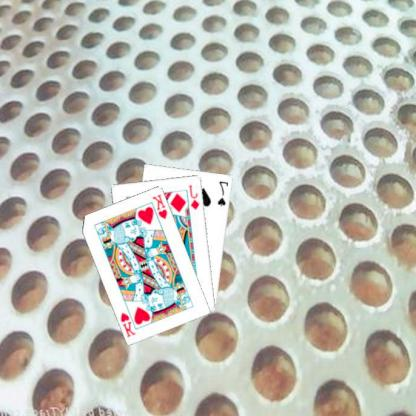7S: (216, 178, 232, 208)
JD: (188, 182, 203, 211)
KH: (119, 309, 139, 338), (152, 191, 170, 220)
